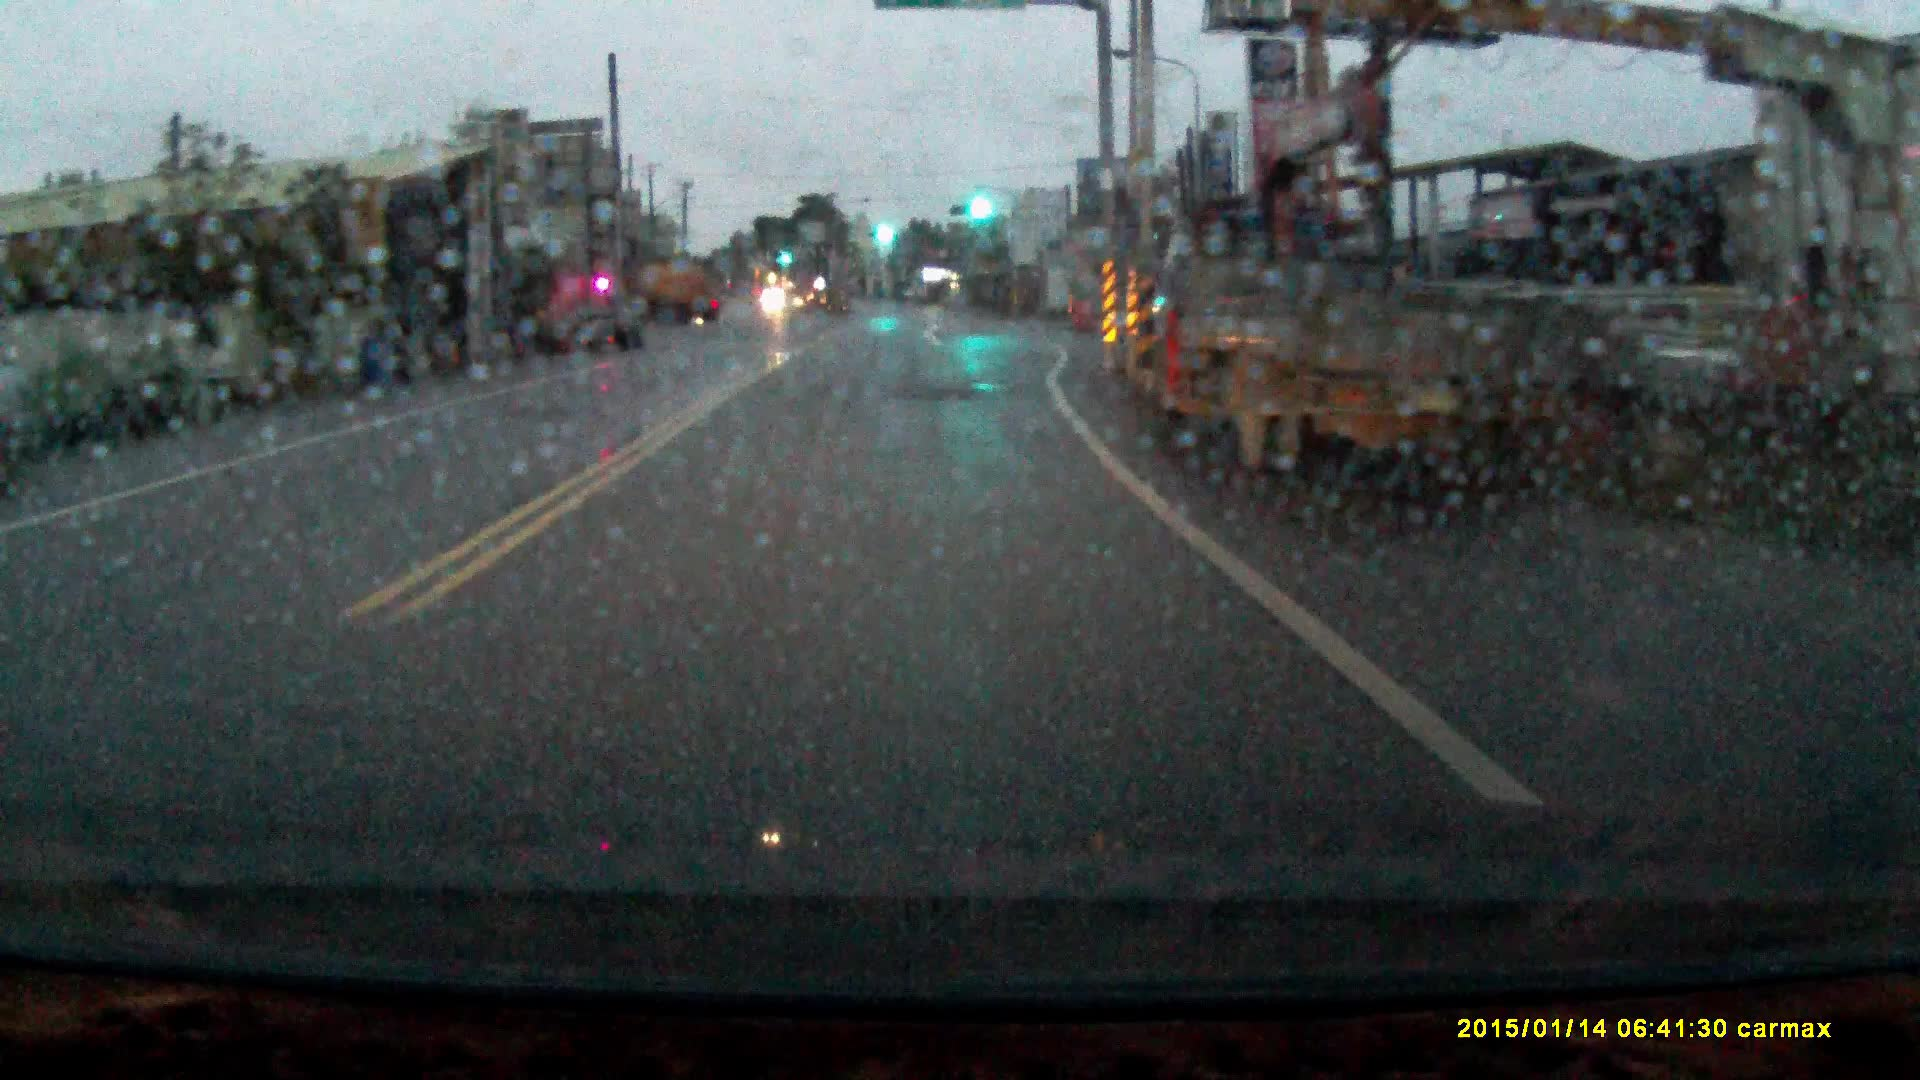vehicle: (1145, 207, 1605, 506), (622, 255, 717, 323)
